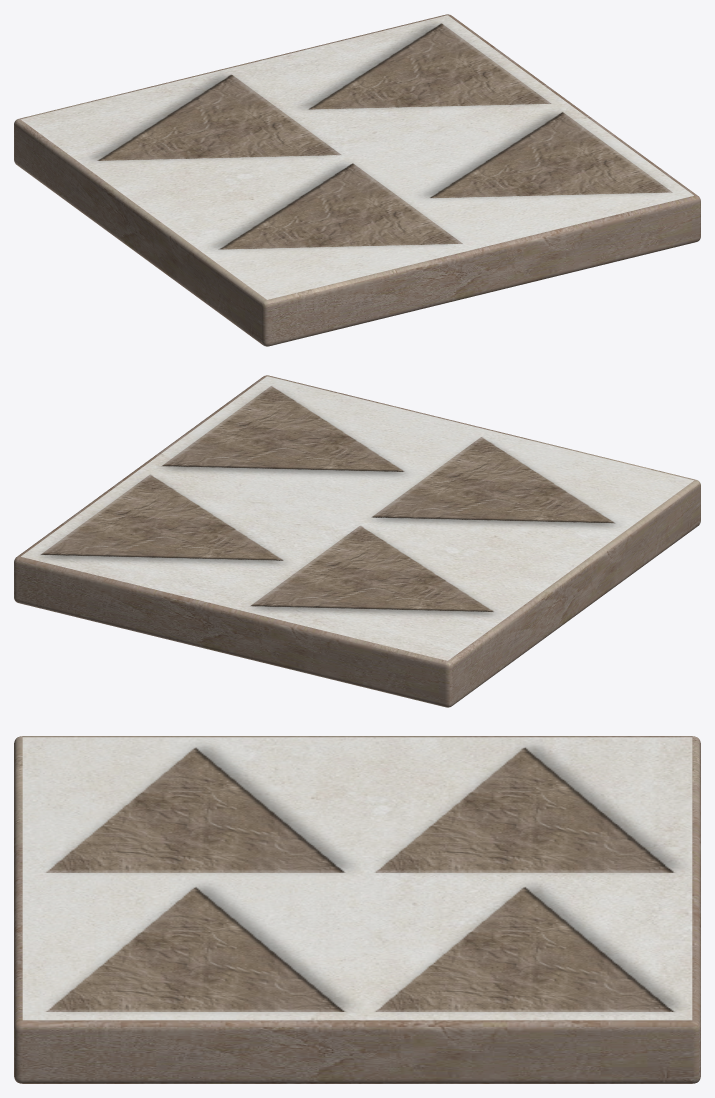
Rendered from tıle48.glb.
3 views of the same model, one above another, from view 1: azimuth 30°, elevation 25°; view 2: azimuth 150°, elevation 25°; view 3: azimuth 270°, elevation 25° (orthographic). The views are drawn at different scales.
Visible parts, largest first — view 1: Box001; view 2: Box001; view 3: Box001.
Boxes of the visible parts, x1,y1,x2,y2 form: Box001: (14, 14, 700, 346); Box001: (14, 375, 700, 707); Box001: (14, 736, 700, 1083).
Bounding box in the file's own units: 0.254 × 0.0254 × 0.254.
Materials: 2 (2 with a texture image).
